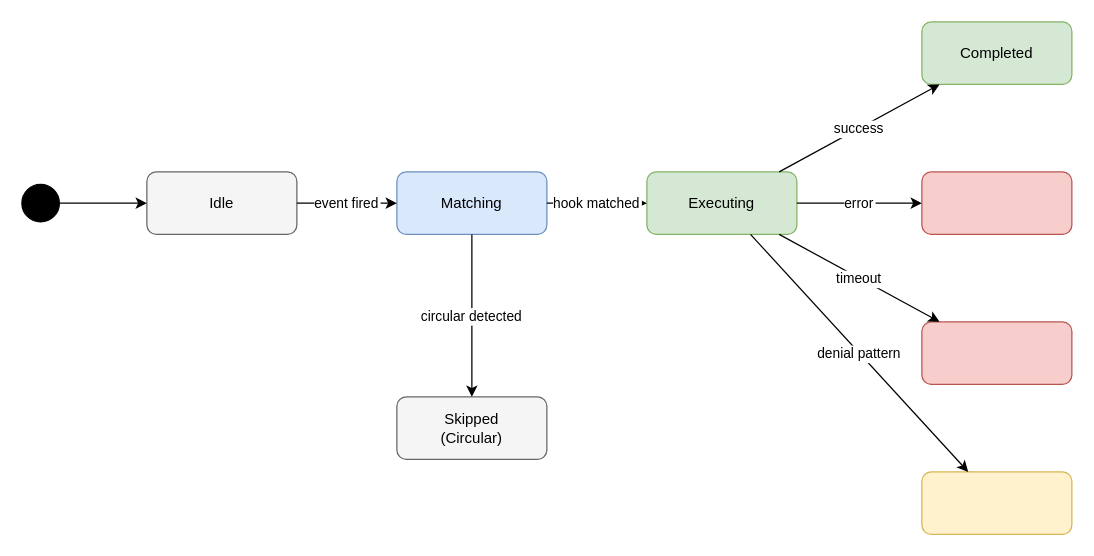
Image size: 1094x556. Some labels were removed from this diagram. Here are the shapes that lost their labels. From the top down, the box of each, then its label:
(921, 171, 1072, 234): Failed
(921, 321, 1072, 384): Timed Out
(921, 471, 1072, 534): Denied
